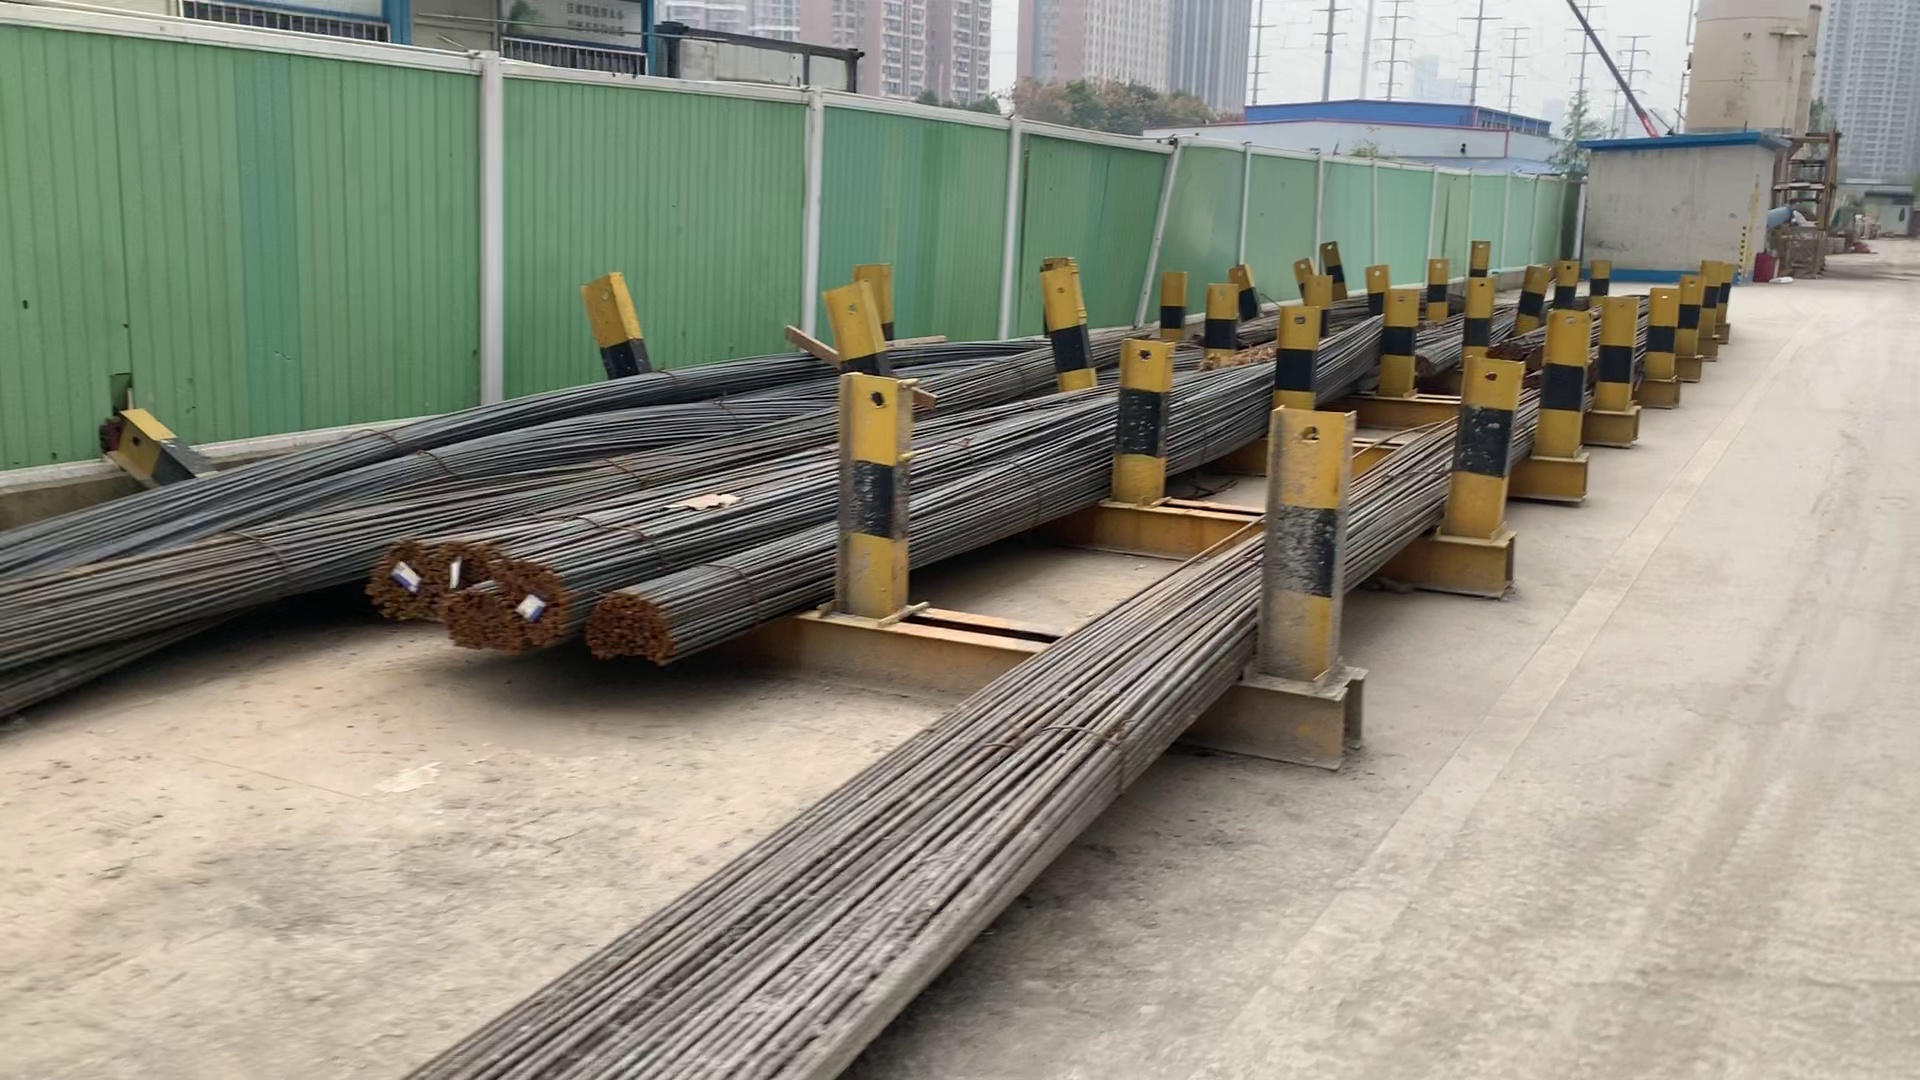rebar: (584, 595, 676, 665), (510, 553, 574, 640), (372, 539, 438, 615), (444, 591, 522, 651), (450, 538, 502, 584)
